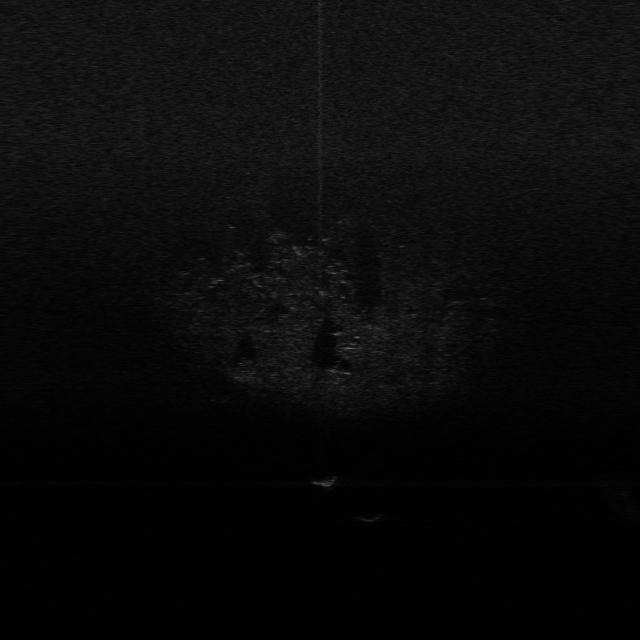cube: (353, 510, 386, 523)
square cage: (308, 474, 339, 489)
